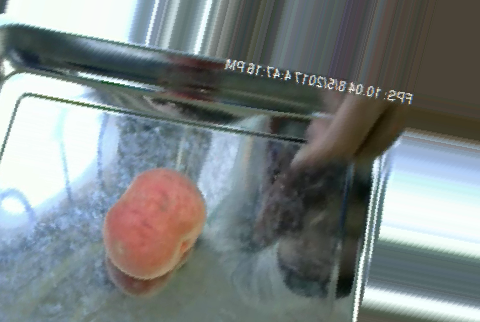Peach: (104, 167, 204, 280)
